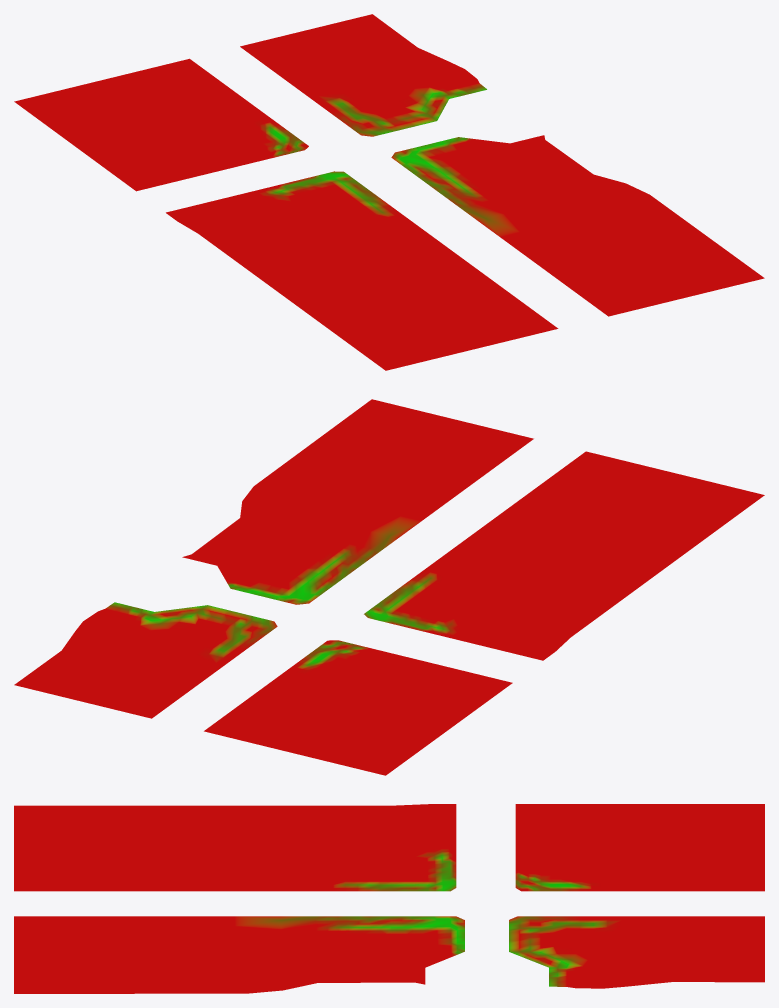
The model's file is pref_sm_4v4_city_hunt01_terrain03c_snow_lv3.fbx.
3 renders of one model, top to bottom at view 1: azimuth 30°, elevation 25°; view 2: azimuth 150°, elevation 25°; view 3: azimuth 270°, elevation 25°, orthographic. The views are drawn at different scales.
Parts seen in each view (by area): view 1: pref_sm_4v4_city_hunt01_terrain03c_snow_lv3; view 2: pref_sm_4v4_city_hunt01_terrain03c_snow_lv3; view 3: pref_sm_4v4_city_hunt01_terrain03c_snow_lv3.
Part boxes in pixels (<box>): pref_sm_4v4_city_hunt01_terrain03c_snow_lv3: <box>14,14,764,370</box>; pref_sm_4v4_city_hunt01_terrain03c_snow_lv3: <box>14,399,764,775</box>; pref_sm_4v4_city_hunt01_terrain03c_snow_lv3: <box>14,804,764,993</box>.
Size of the model in its own units: 75.08 by 2.33e-05 by 125.
